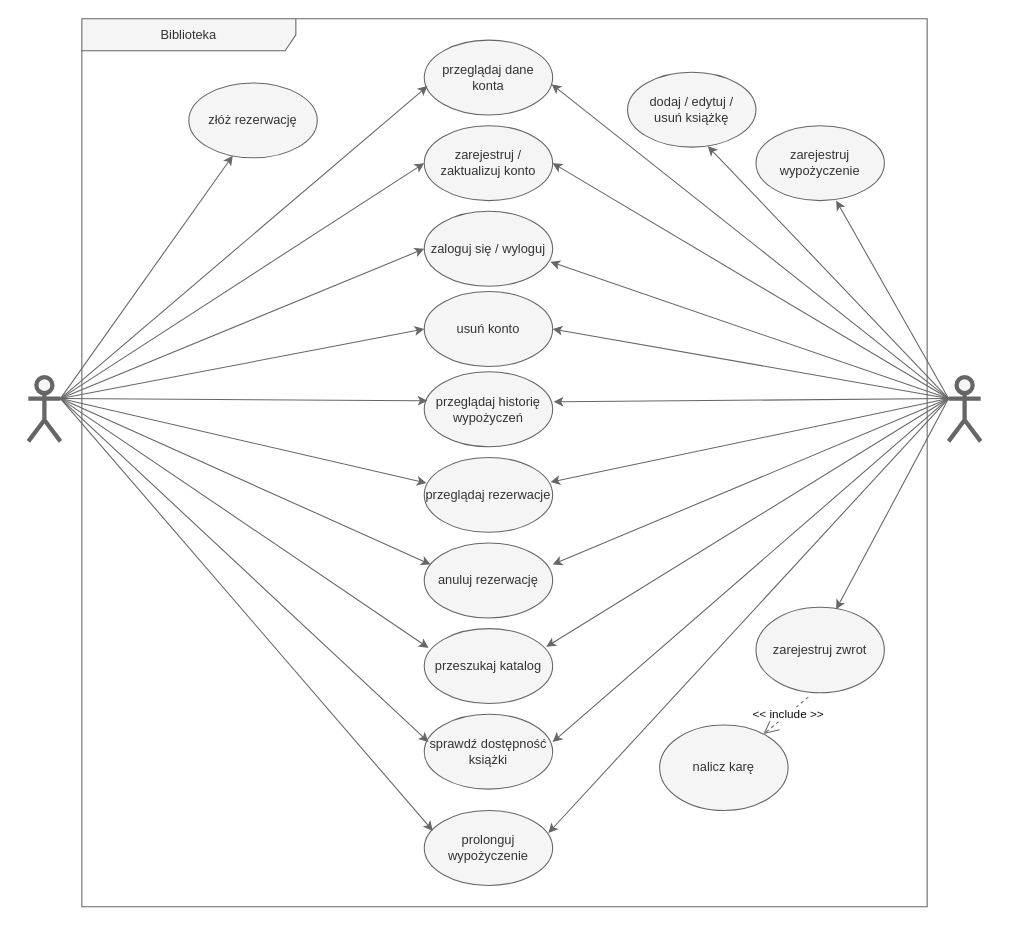
The diagram is 1012 pixels wide and 926 high, and some of its shapes have lost their labels. Here are the shapes that lost their labels. From the top down, the box of each, then its label:
(26, 374, 62, 443): Czytelnik
(946, 374, 982, 443): Pracownik
